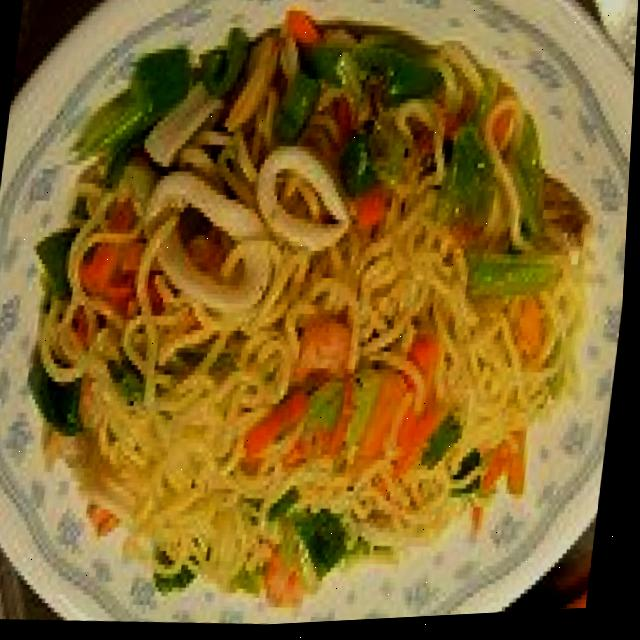面条主食: (0, 0, 618, 639)
